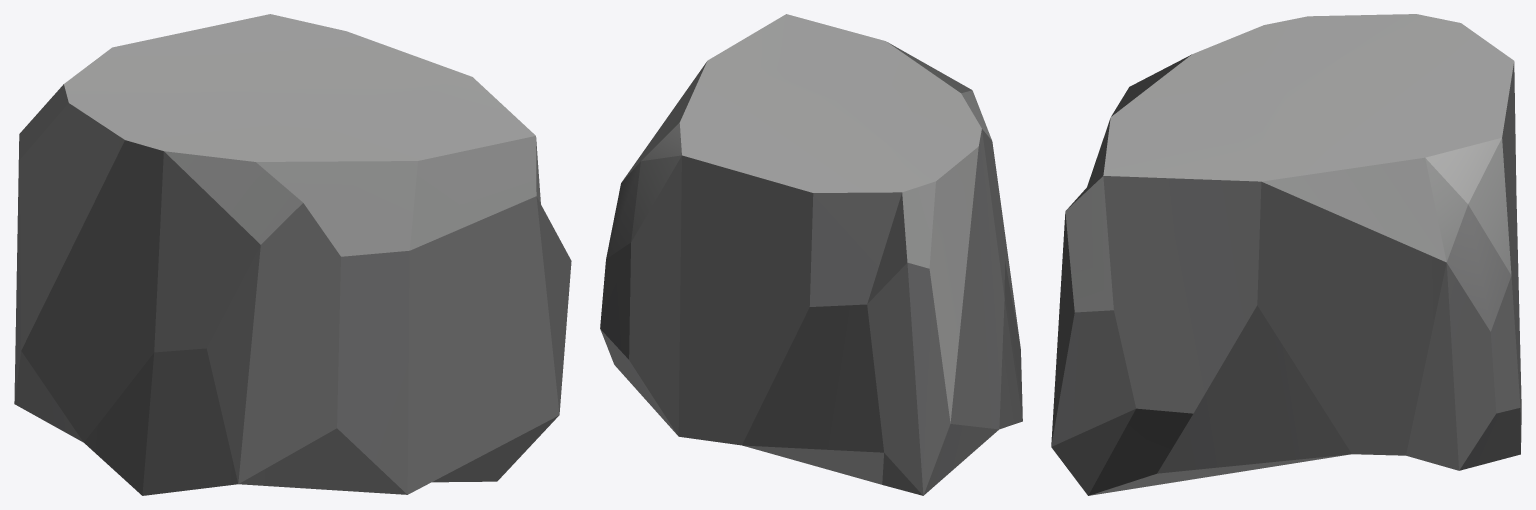
Rendered from wall_stone2.fbx.
The picture shows the model from 3 angles, left to right: view 1: azimuth 30°, elevation 25°; view 2: azimuth 150°, elevation 25°; view 3: azimuth 270°, elevation 25°; orthographic projection. The views are drawn at different scales.
Parts seen in each view (by area): view 1: wall_stone2; view 2: wall_stone2; view 3: wall_stone2.
Part boxes in pixels (left/top/right/bottom): wall_stone2: left=14, top=14, right=571, bottom=495; wall_stone2: left=600, top=14, right=1022, bottom=495; wall_stone2: left=1051, top=14, right=1521, bottom=495.
Bounding box in the file's own units: 22.6 × 19.21 × 23.8.
